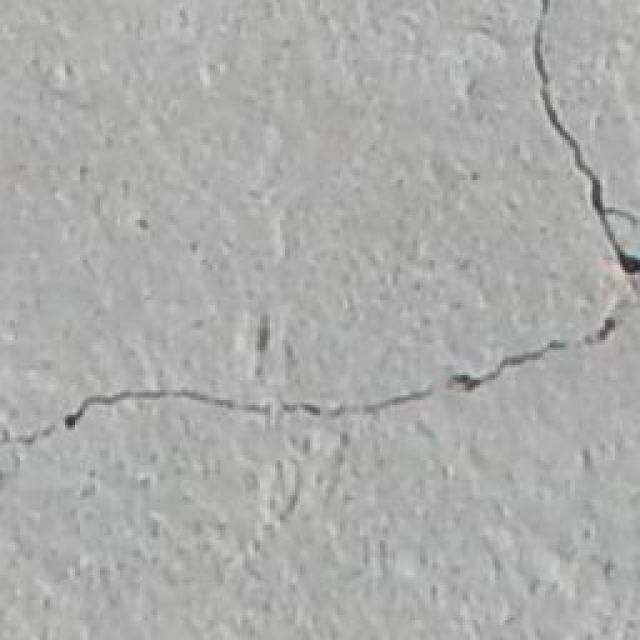concrete-crack: (6, 0, 640, 455)
